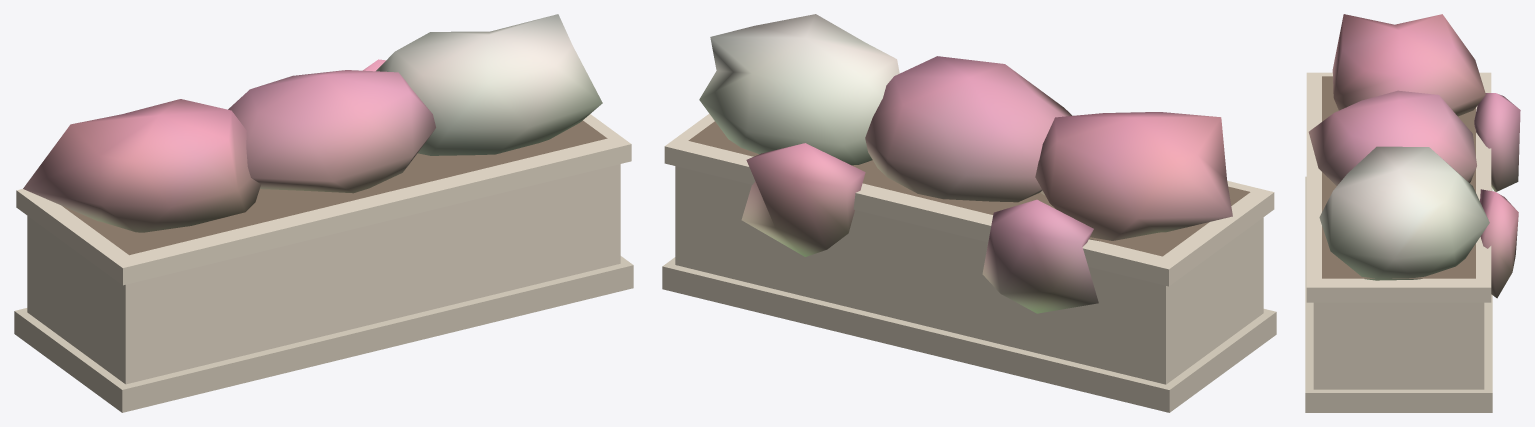
Rendered from SM_BM_BP_StonePlanter_A.glb.
The picture shows the model from 3 angles, left to right: view 1: azimuth 30°, elevation 25°; view 2: azimuth 150°, elevation 25°; view 3: azimuth 270°, elevation 25°; orthographic projection. The views are drawn at different scales.
Visible parts, largest first — view 1: SM_BM_BP_StonePlanter_A; view 2: SM_BM_BP_StonePlanter_A; view 3: SM_BM_BP_StonePlanter_A.
Boxes of the visible parts, x1,y1,x2,y2 form: SM_BM_BP_StonePlanter_A: (14,14,633,412); SM_BM_BP_StonePlanter_A: (662,14,1276,412); SM_BM_BP_StonePlanter_A: (1305,14,1520,412).
Size of the model in its own units: 1.97 by 0.82 by 0.7816.
